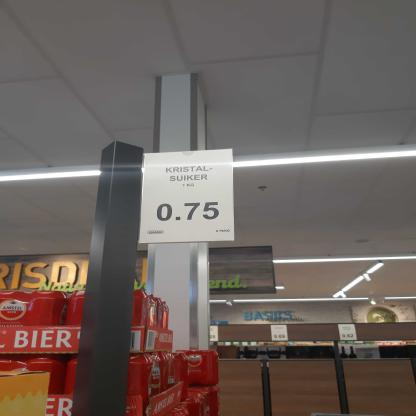prtg: (140, 149, 236, 245)
